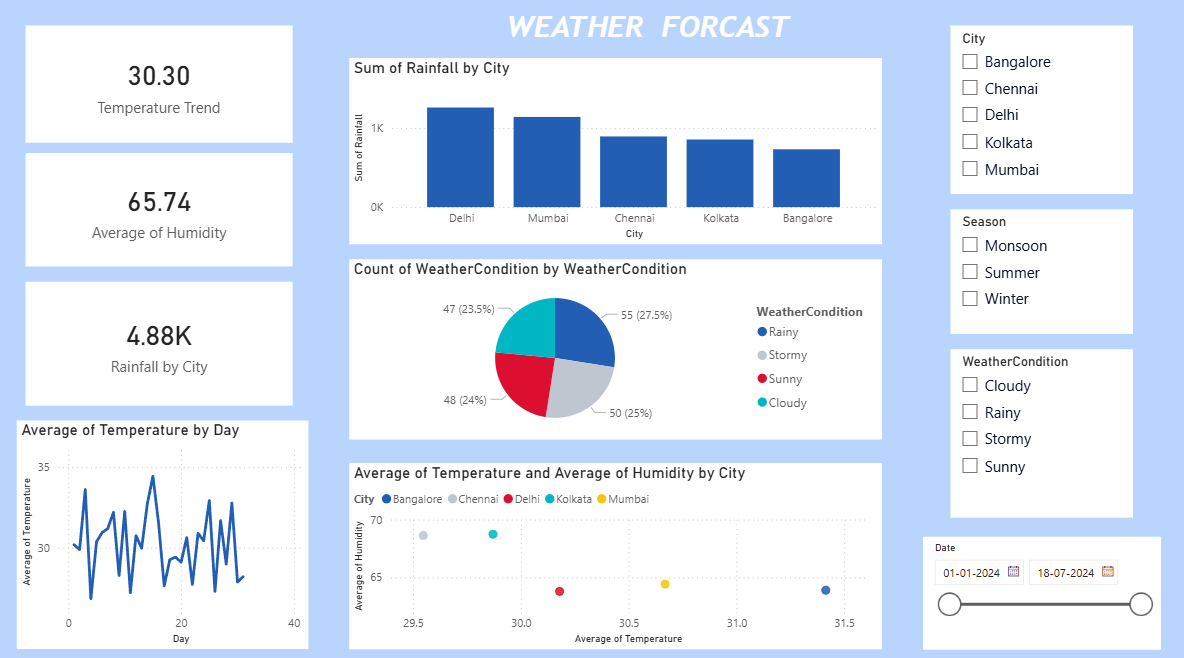

The page's visual inventory and layout, read from the dashboard file:
{"tool":"powerbi","page":{"name":"Page 1","canvas":[1280,720],"ordinal":0},"visuals":[{"type":"lineChart","fields":{"Y":["Avg(WeatherData.Temperature)"],"Category":["WeatherData.Date.Variation.Date Hierarchy.Day"]},"box":[29.6,476.2,334.9,241.5],"z":0},{"type":"clusteredColumnChart","fields":{"Category":["WeatherData.City"],"Y":["Sum(WeatherData.Rainfall)"]},"box":[364.5,50.1,553.7,200.5],"z":1000},{"type":"pieChart","fields":{"Category":["WeatherData.WeatherCondition"],"Y":["CountNonNull(WeatherData.WeatherCondition)"]},"box":[364.5,250.6,551.4,223.3],"z":2000},{"type":"scatterChart","fields":{"X":["Avg(WeatherData.Temperature)"],"Y":["Avg(WeatherData.Humidity)"],"Series":["WeatherData.City"]},"box":[412.4,517.5,537.7,200.8],"z":3000},{"type":"slicer","fields":{"Values":["WeatherData.City"]},"box":[997.3,70.1,164.4,181.9],"z":4000},{"type":"slicer","fields":{"Values":["WeatherData.Season"]},"box":[1001.3,270.9,196.8,134.8],"z":5000},{"type":"slicer","fields":{"Values":["WeatherData.WeatherCondition"]},"box":[998.6,415.1,234.5,181.9],"z":6000},{"type":"slicer","fields":{"Values":["WeatherData.Date"]},"box":[997.3,598.4,269.5,121.3],"z":7000},{"type":"card","fields":{"Values":["Avg(WeatherData.Temperature)"]},"box":[29.6,25.1,243.8,116.2],"z":8000},{"type":"card","fields":{"Values":["Avg(WeatherData.Humidity)"]},"box":[29.6,161.8,243.8,109.4],"z":9000},{"type":"card","fields":{"Values":["Sum(WeatherData.Rainfall)"]},"box":[29.6,300.7,243.8,113.9],"z":10000},{"type":"textbox","box":[543.1,1.3,301.9,48.5],"z":10001}]}

Visuals, with their boxes in screenshot pixels (x1, y1, x2, y2), scaled from the page's 1280x720 canvas onto the 1184x658 screenshot:
lineChart - Avg(WeatherData.Temperature) x WeatherData.Date.Variation.Date Hierarchy.Day: pyautogui.locateOnScreen(27, 435, 337, 656)
clusteredColumnChart - WeatherData.City x Sum(WeatherData.Rainfall): pyautogui.locateOnScreen(337, 46, 849, 229)
pieChart - WeatherData.WeatherCondition x CountNonNull(WeatherData.WeatherCondition): pyautogui.locateOnScreen(337, 229, 847, 433)
scatterChart - Avg(WeatherData.Temperature) x Avg(WeatherData.Humidity): pyautogui.locateOnScreen(381, 473, 879, 656)
slicer - WeatherData.City: pyautogui.locateOnScreen(923, 64, 1075, 230)
slicer - WeatherData.Season: pyautogui.locateOnScreen(926, 248, 1108, 371)
slicer - WeatherData.WeatherCondition: pyautogui.locateOnScreen(924, 379, 1141, 546)
slicer - WeatherData.Date: pyautogui.locateOnScreen(923, 547, 1172, 657)
card - Avg(WeatherData.Temperature): pyautogui.locateOnScreen(27, 23, 253, 129)
card - Avg(WeatherData.Humidity): pyautogui.locateOnScreen(27, 148, 253, 248)
card - Sum(WeatherData.Rainfall): pyautogui.locateOnScreen(27, 275, 253, 379)
textbox: pyautogui.locateOnScreen(502, 1, 782, 46)
